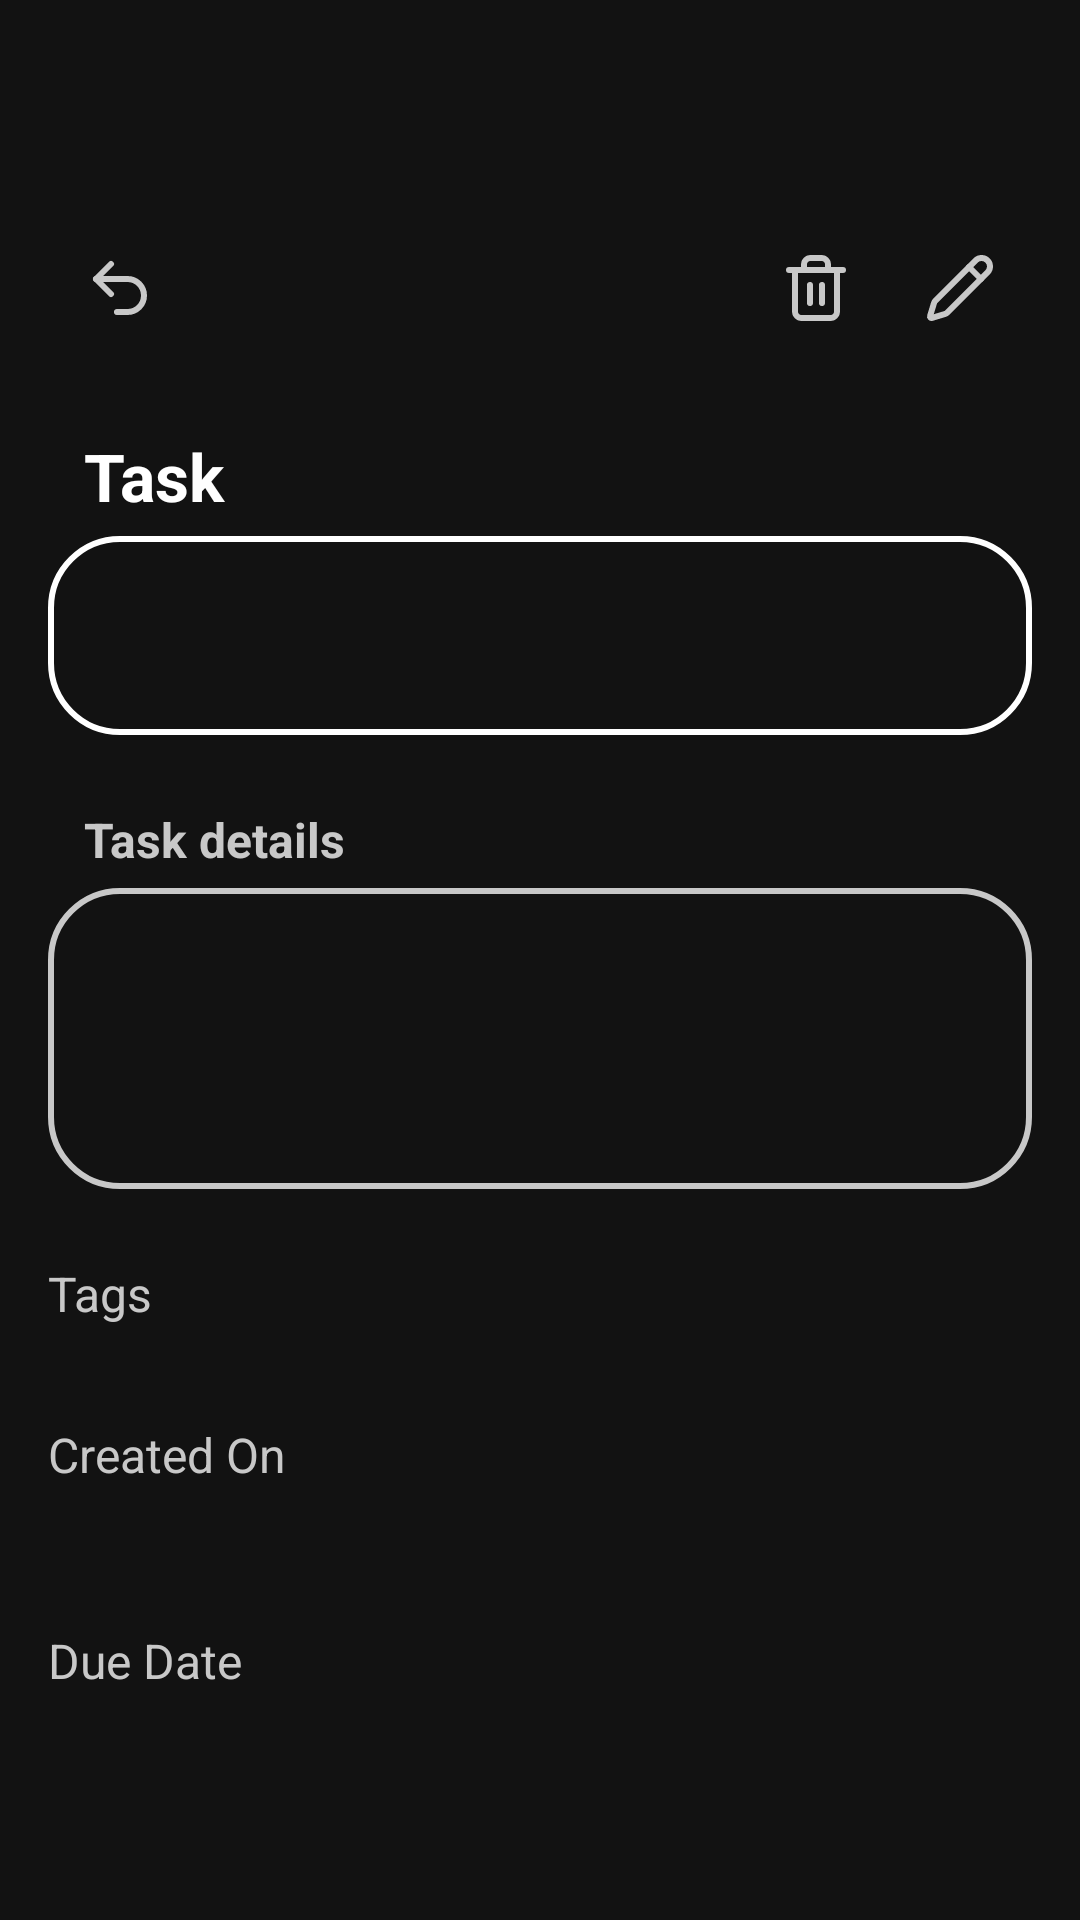

Icon bounding boxes for this 1080×1920 phone screenshot, format (x1, y1, x2, y2):
Delete trash: (786, 255, 846, 321)
Go back: (93, 261, 147, 315)
